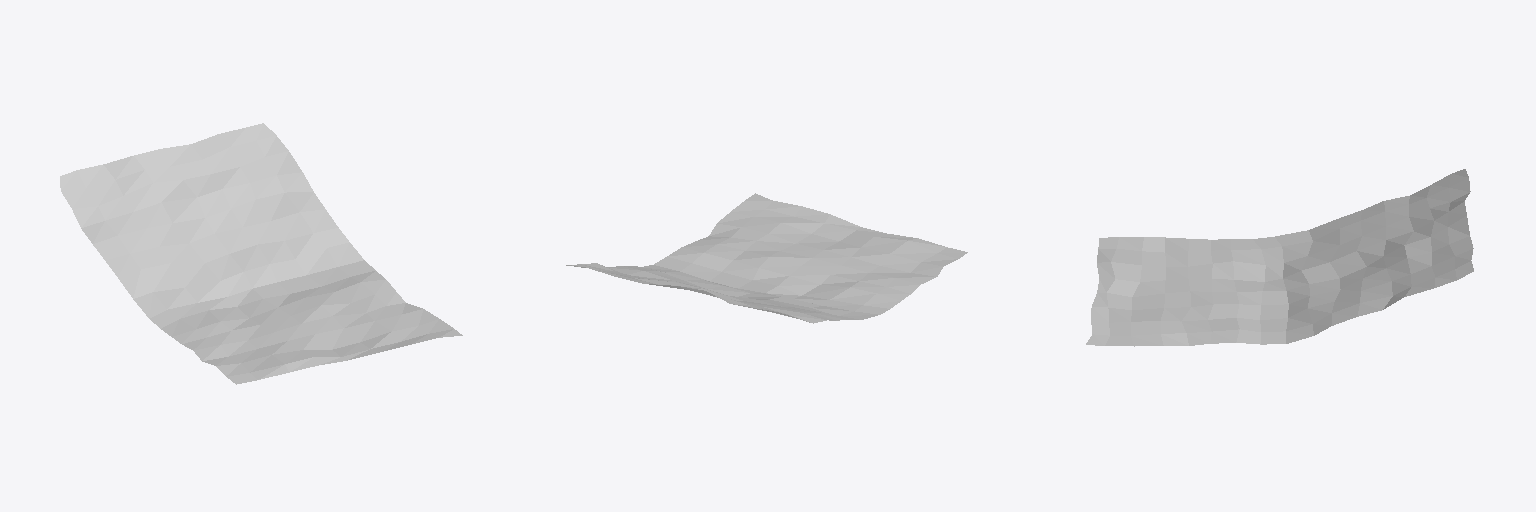
File: uploads_files_2304171_paper2obj.obj
3 renders of one model, left to right at view 1: azimuth 30°, elevation 25°; view 2: azimuth 150°, elevation 25°; view 3: azimuth 270°, elevation 25°, orthographic.
Bounding box in the file's own units: 2.6 × 0.8932 × 3.92.